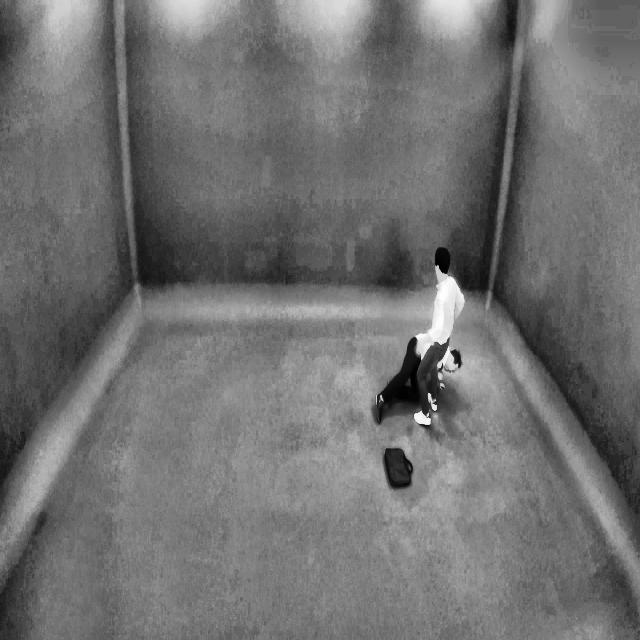assult: (373, 238, 467, 432)
